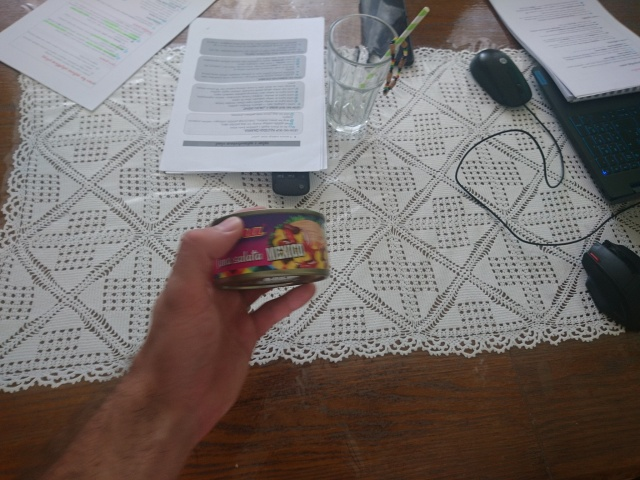Giana Tuna Salad Mexico 185g: (207, 205, 332, 292)
